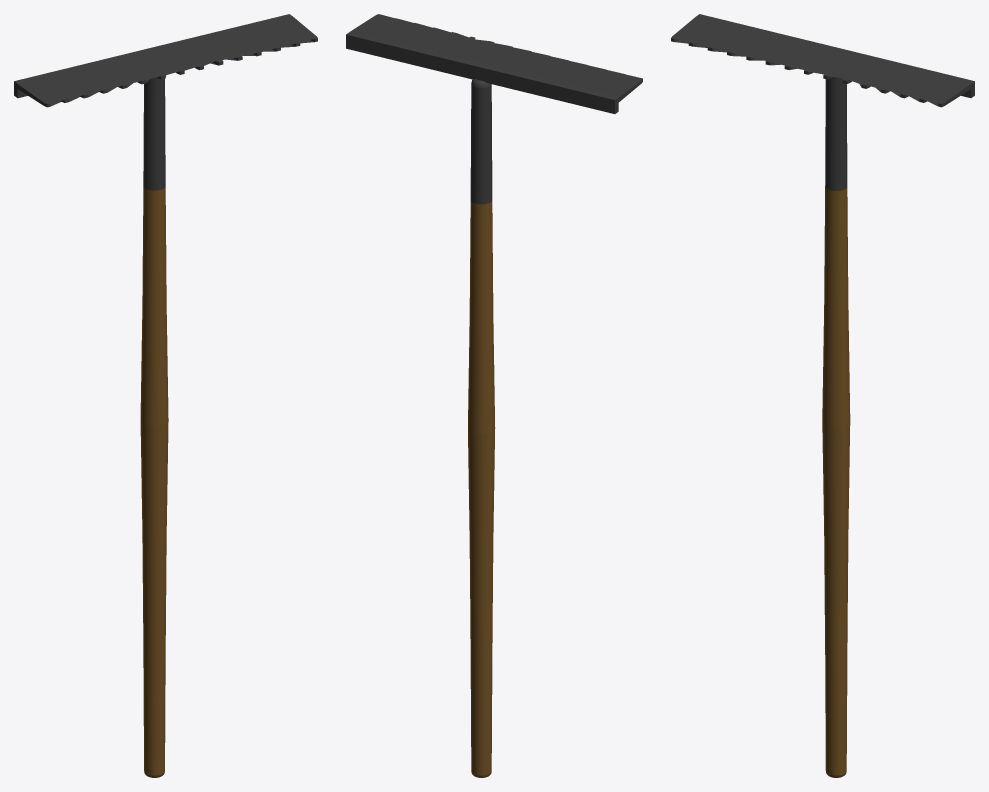
File: rake.fbx
3 views of the same model, side by side, from view 1: azimuth 30°, elevation 25°; view 2: azimuth 150°, elevation 25°; view 3: azimuth 330°, elevation 25° (orthographic). The views are drawn at different scales.
Visible parts, largest first — view 1: Cylinder.001; view 2: Cylinder.001; view 3: Cylinder.001.
Boxes of the visible parts, x1,y1,x2,y2 form: Cylinder.001: (14,14,317,777); Cylinder.001: (346,14,642,777); Cylinder.001: (671,14,974,777).
Size of the model in its own units: 1431 by 3604 by 324.
